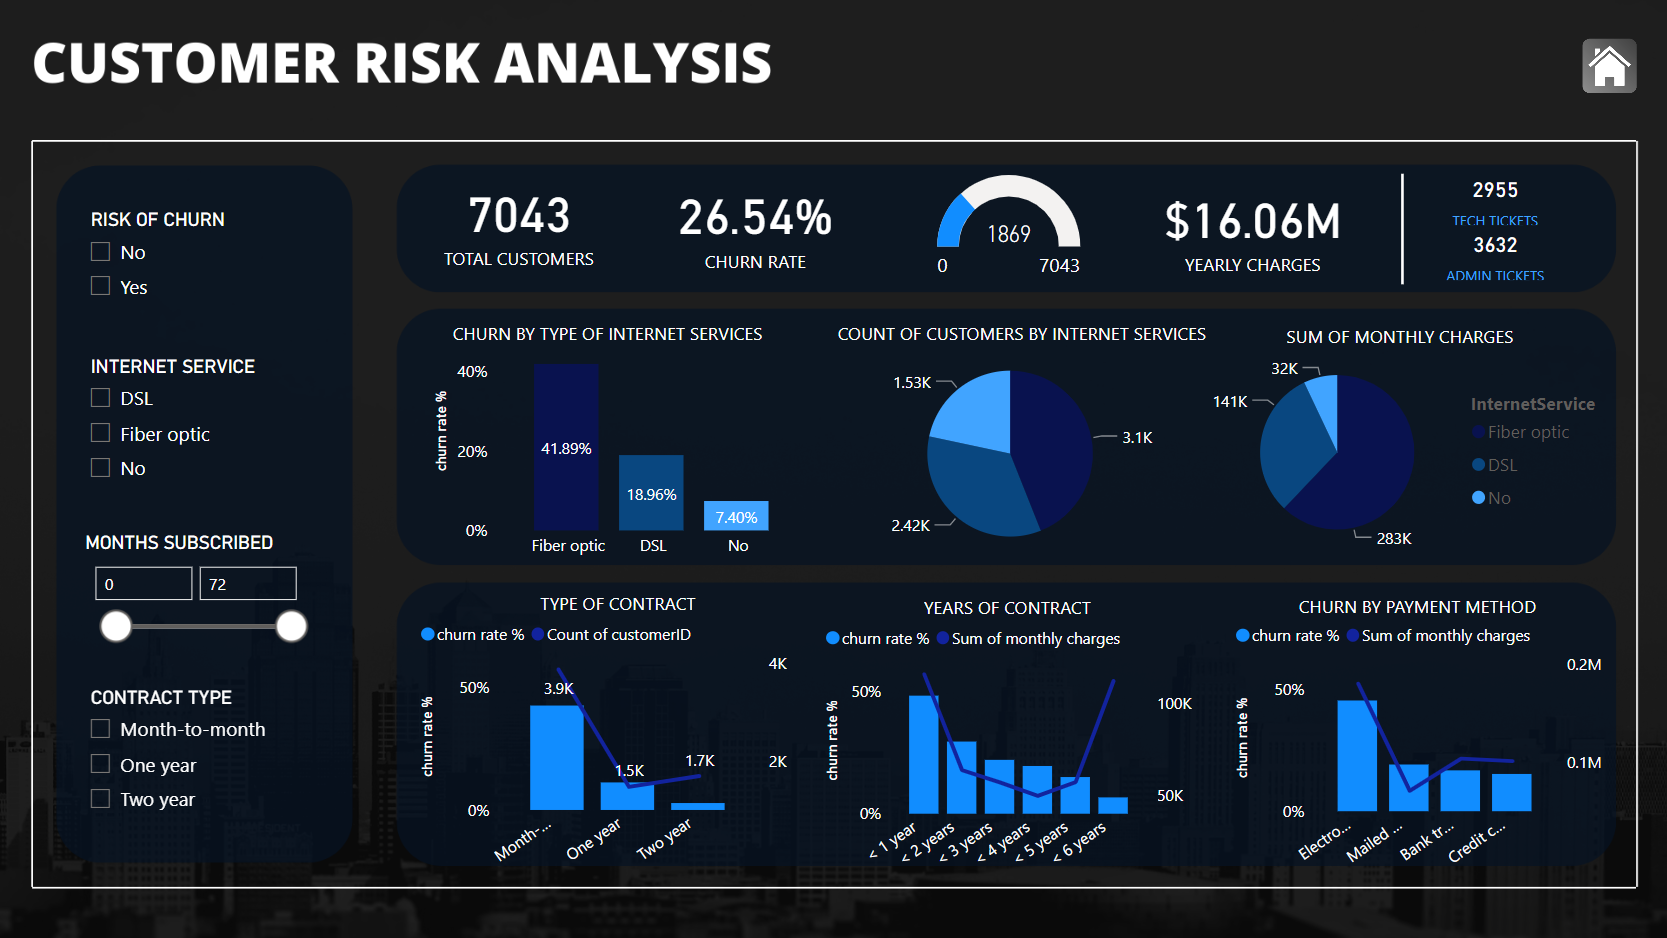

What the dashboard file says about the page in this screenshot:
{"tool":"powerbi","page":{"name":"CUSTOMER RISK ANALYSIS","canvas":[1280,720],"ordinal":2},"visuals":[{"type":"slicer","fields":{"Values":["FULL DATASET.Churn"]},"box":[56.3,155.2,184,85.2],"z":0},{"type":"slicer","fields":{"Values":["FULL DATASET.InternetService"]},"box":[56.3,267.8,184,114],"z":1000},{"type":"slicer","title":"MONTHS SUBSCRIBED","fields":{"Values":["FULL DATASET.tenure"]},"box":[60.4,407.9,184,114],"z":2000},{"type":"slicer","fields":{"Values":["FULL DATASET.Contract"]},"box":[56.3,521.9,184,127.7],"z":3000},{"type":"card","fields":{"Values":["CountNonNull(FULL DATASET.customerID)"]},"box":[307.6,127.7,181.3,85.2],"z":4000},{"type":"card","fields":{"Values":["FULL DATASET.count rate %"]},"box":[488.9,129.1,181.3,85.2],"z":5000},{"type":"gauge","fields":{"Y":["CountNonNull(01 Churn-Dataset.Churn)"],"MaxValue":["CountNonNull(FULL DATASET.customerID)"]},"box":[699.1,129.1,149.7,94.8],"z":6000},{"type":"card","fields":{"Values":["Sum(FULL DATASET.TotalCharges)"]},"box":[870.7,131.8,181.3,85.2],"z":7000},{"type":"shape","box":[983.3,133.2,184,85.2],"z":8000},{"type":"card","fields":{"Values":["Sum(FULL DATASET.numTechTickets)"]},"box":[1075.6,129.1,142.8,48.1],"z":9000},{"type":"card","fields":{"Values":["Sum(FULL DATASET.numAdminTickets)"]},"box":[1075.6,171.7,142.8,48.1],"z":10000},{"type":"columnChart","title":"CHURN BY TYPE OF INTERNET SERVICE","fields":{"Category":["FULL DATASET.InternetService"],"Y":["FULL DATASET.churn rate %"],"Series":["FULL DATASET.InternetService"]},"box":[328.2,240.3,295.3,196.4],"z":11000},{"type":"textbox","box":[342,241.7,267.8,31.6],"z":12000},{"type":"pieChart","fields":{"Y":["CountNonNull(FULL DATASET.customerID)"],"Category":["FULL DATASET.InternetService"]},"box":[637.3,258.2,274.7,179.9],"z":12001},{"type":"textbox","box":[637.3,241.7,309,50.8],"z":12002},{"type":"pieChart","fields":{"Y":["Sum(FULL DATASET.MonthlyCharges)"],"Category":["FULL DATASET.InternetService"]},"box":[918.8,256.8,318.6,179.9],"z":12003},{"type":"textbox","box":[982,243.1,211.5,30.2],"z":12004},{"type":"lineStackedColumnComboChart","title":"CHURN BY TYPE OF INTERNET SERVICE","fields":{"Category":["FULL DATASET.Contract"],"Y":["FULL DATASET.churn rate %"],"Y2":["CountNonNull(FULL DATASET.customerID)"]},"box":[317.3,467,291.2,207.4],"z":12005},{"type":"lineStackedColumnComboChart","title":"CHURN BY TYPE OF INTERNET SERVICE","fields":{"Category":["FULL DATASET.Loyalty"],"Y":["FULL DATASET.churn rate %"],"Y2":["Sum(FULL DATASET.MonthlyCharges)"]},"box":[627.6,469.7,291.2,207.4],"z":12006},{"type":"lineStackedColumnComboChart","title":"CHURN BY TYPE OF INTERNET SERVICE","fields":{"Category":["FULL DATASET.PaymentMethod"],"Y":["FULL DATASET.churn rate %"],"Y2":["Sum(FULL DATASET.MonthlyCharges)"]},"box":[942.1,468.3,291.2,207.4],"z":12007},{"type":"textbox","box":[409.3,449.1,159.3,34.3],"z":12008},{"type":"textbox","box":[681.2,451.8,184,33],"z":12009},{"type":"textbox","box":[961.4,450.5,251.3,34.3],"z":12010},{"type":"image","box":[1190.4,24.9,89.6,51.5],"z":12011}]}

Visuals, with their boxes in screenshot pixels (x1, y1, x2, y2), scaled from the page's 1280x720 canvas onto the 1667x938 screenshot:
slicer - FULL DATASET.Churn: (73, 202, 313, 313)
slicer - FULL DATASET.InternetService: (73, 349, 313, 497)
"MONTHS SUBSCRIBED" slicer: (79, 531, 318, 680)
slicer - FULL DATASET.Contract: (73, 680, 313, 846)
card - CountNonNull(FULL DATASET.customerID): (401, 166, 637, 277)
card - FULL DATASET.count rate %: (637, 168, 873, 279)
gauge - CountNonNull(01 Churn-Dataset.Churn) x CountNonNull(FULL DATASET.customerID): (910, 168, 1105, 292)
card - Sum(FULL DATASET.TotalCharges): (1134, 172, 1370, 283)
shape: (1281, 174, 1520, 285)
card - Sum(FULL DATASET.numTechTickets): (1401, 168, 1587, 231)
card - Sum(FULL DATASET.numAdminTickets): (1401, 224, 1587, 286)
"CHURN BY TYPE OF INTERNET SERVICE" columnChart: (427, 313, 812, 569)
textbox: (445, 315, 794, 356)
pieChart - CountNonNull(FULL DATASET.customerID) x FULL DATASET.InternetService: (830, 336, 1188, 571)
textbox: (830, 315, 1232, 381)
pieChart - Sum(FULL DATASET.MonthlyCharges) x FULL DATASET.InternetService: (1197, 335, 1612, 569)
textbox: (1279, 317, 1554, 356)
"CHURN BY TYPE OF INTERNET SERVICE" lineStackedColumnComboChart: (413, 608, 792, 879)
"CHURN BY TYPE OF INTERNET SERVICE" lineStackedColumnComboChart: (817, 612, 1197, 882)
"CHURN BY TYPE OF INTERNET SERVICE" lineStackedColumnComboChart: (1227, 610, 1606, 880)
textbox: (533, 585, 741, 630)
textbox: (887, 589, 1127, 632)
textbox: (1252, 587, 1579, 632)
image: (1550, 32, 1666, 100)
